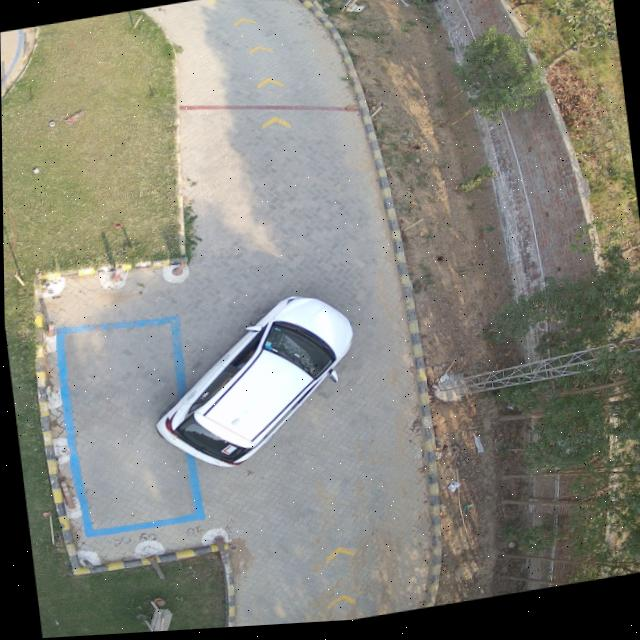car: (154, 299, 351, 470)
